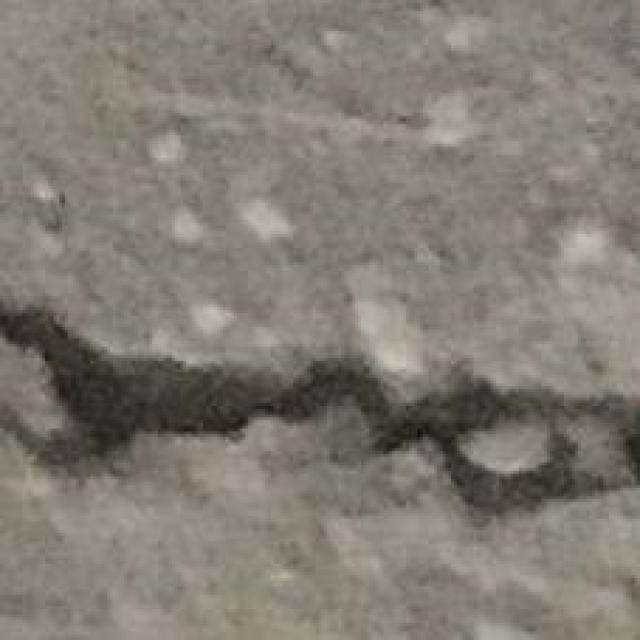Transverse: (0, 277, 640, 553)
